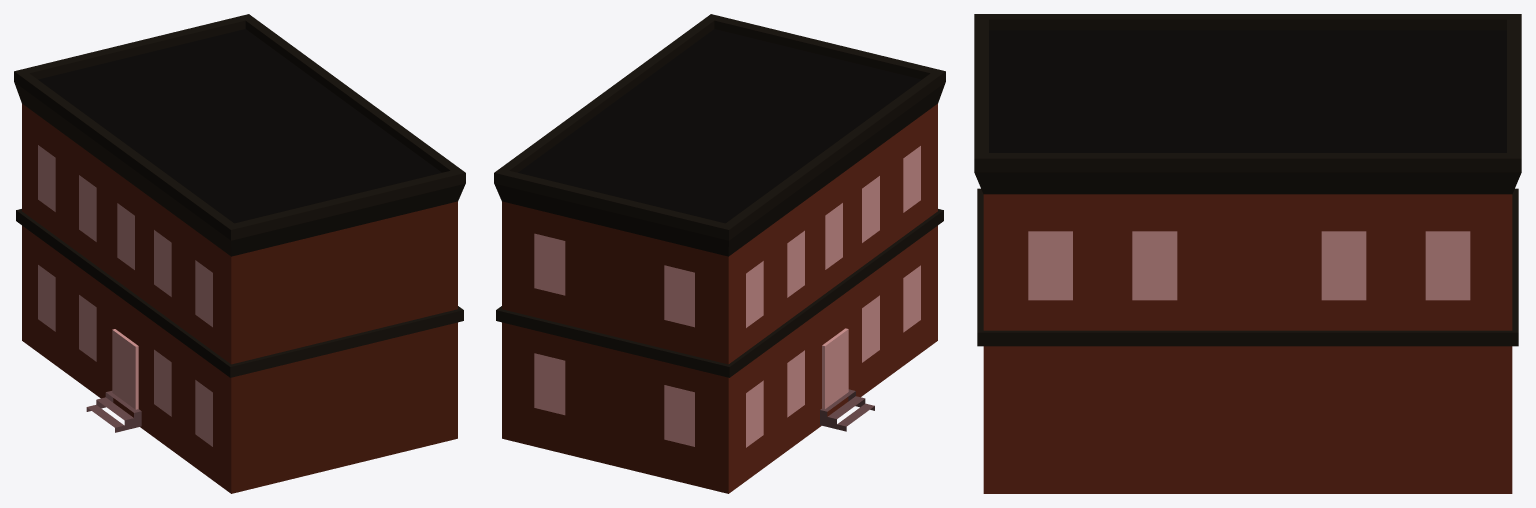
The model's file is Building6.fbx.
The picture shows the model from 3 angles, left to right: view 1: azimuth 30°, elevation 25°; view 2: azimuth 150°, elevation 25°; view 3: azimuth 270°, elevation 25°; orthographic projection. The views are drawn at different scales.
Parts seen in each view (by area): view 1: Cube.005; view 2: Cube.005; view 3: Cube.005.
Boxes of the visible parts, x1,y1,x2,y2 form: Cube.005: [14, 14, 465, 493]; Cube.005: [494, 14, 945, 493]; Cube.005: [974, 14, 1521, 493].
Size of the model in its own units: 1576 by 1565 by 2300.
